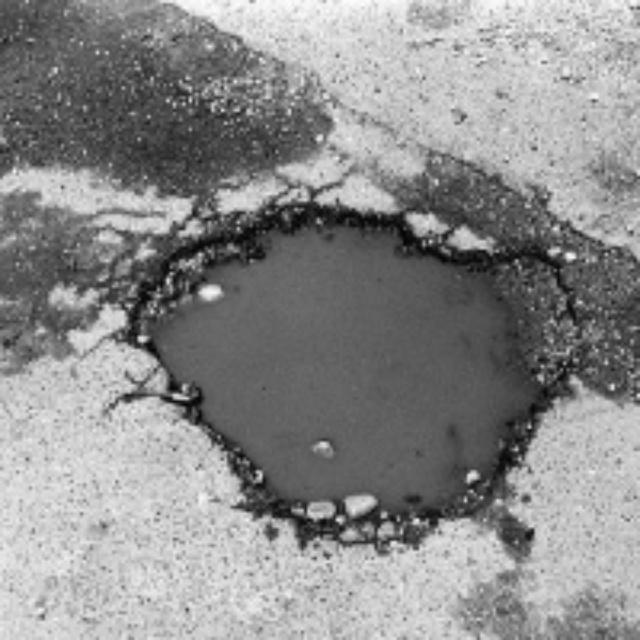Pothole: (112, 198, 602, 568)
